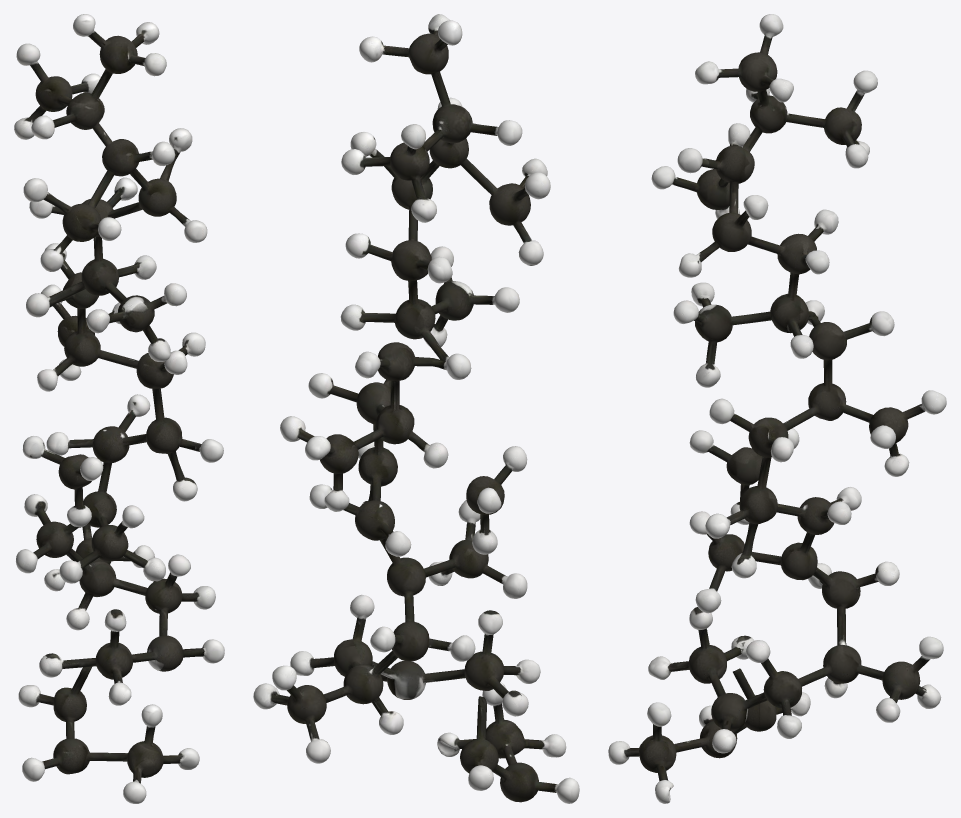
File: opera03.glb
3 renders of one model, left to right at view 1: azimuth 30°, elevation 25°; view 2: azimuth 150°, elevation 25°; view 3: azimuth 270°, elevation 25°, orthographic. The views are drawn at different scales.
Visible parts, largest first — view 1: tripo_node_4a3c3722-ebf0-4502-93c5-5d40fe6e6fce; view 2: tripo_node_4a3c3722-ebf0-4502-93c5-5d40fe6e6fce; view 3: tripo_node_4a3c3722-ebf0-4502-93c5-5d40fe6e6fce.
Part boxes in pixels (x1,y1,x2,y2): tripo_node_4a3c3722-ebf0-4502-93c5-5d40fe6e6fce: [14, 14, 224, 803]; tripo_node_4a3c3722-ebf0-4502-93c5-5d40fe6e6fce: [253, 14, 579, 803]; tripo_node_4a3c3722-ebf0-4502-93c5-5d40fe6e6fce: [608, 14, 946, 803].
Size of the model in its own units: 0.3262 by 0.9998 by 0.4029.
1 material, 1 textured.
